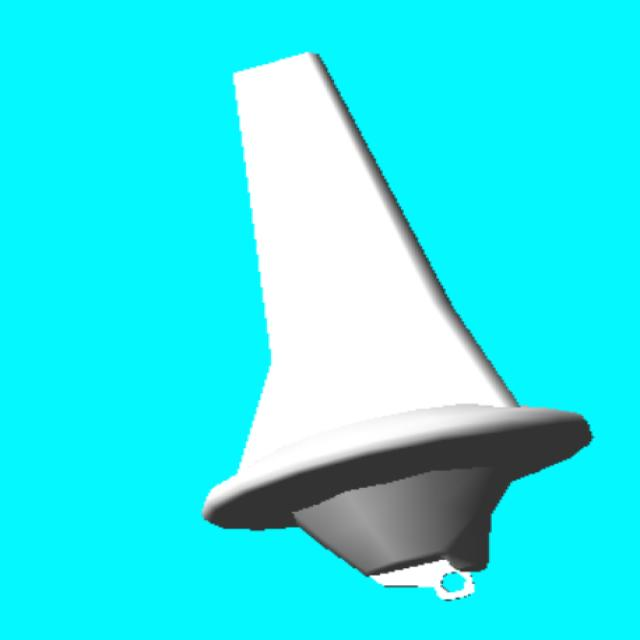WhiteBuoy: (203, 54, 591, 598)
